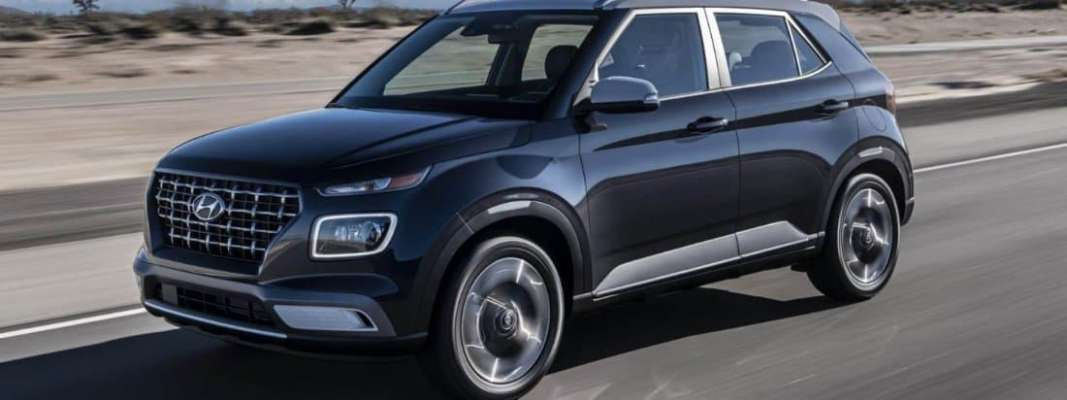Car: (123, 1, 927, 400)
